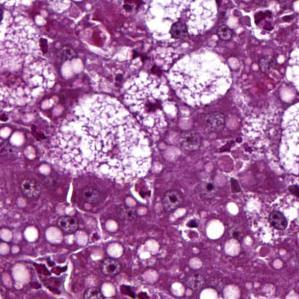ballooning: (49, 92, 155, 184), (162, 46, 233, 111), (116, 71, 181, 140), (143, 3, 222, 46)
